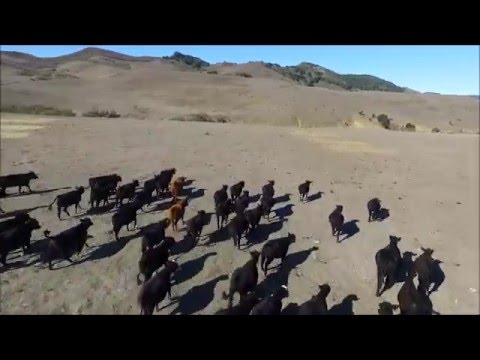sheep: (44, 218, 96, 271), (141, 262, 182, 315), (372, 233, 403, 297), (227, 248, 262, 304), (1, 212, 39, 257), (137, 237, 174, 283), (261, 231, 297, 278), (396, 276, 433, 316), (412, 243, 441, 294), (107, 201, 140, 242), (296, 280, 331, 316), (49, 186, 86, 218), (1, 169, 38, 198), (324, 202, 349, 244), (227, 209, 249, 252), (363, 197, 384, 223), (168, 201, 186, 230), (89, 175, 123, 188), (295, 178, 313, 202), (171, 175, 187, 200), (212, 183, 229, 205), (262, 179, 276, 202)
